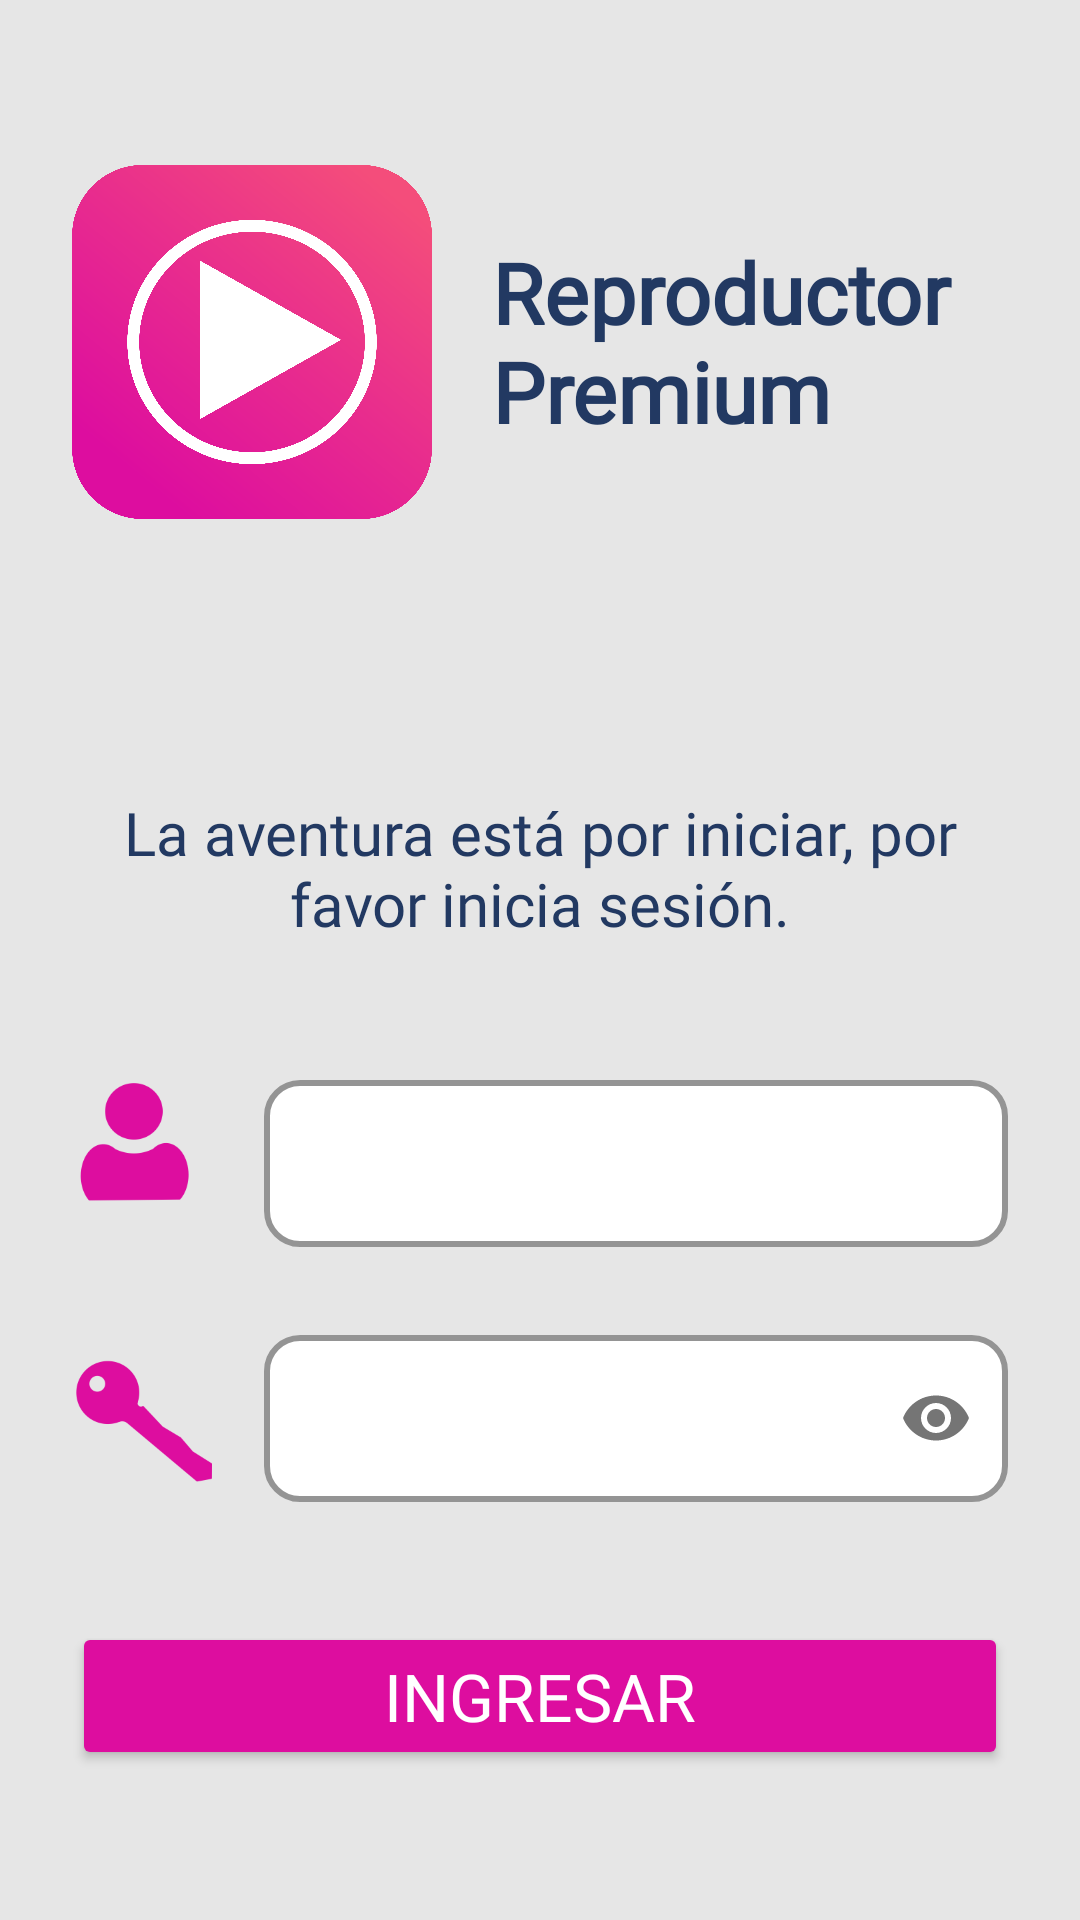

Icon bounding boxes for this 1080 × 1920 phone screenshot, format [left=x1, top=y1, right=x2, bottom=y2]:
iconollave: [left=76, top=1361, right=212, bottom=1482]
iconoper: [left=80, top=1083, right=189, bottom=1201]
